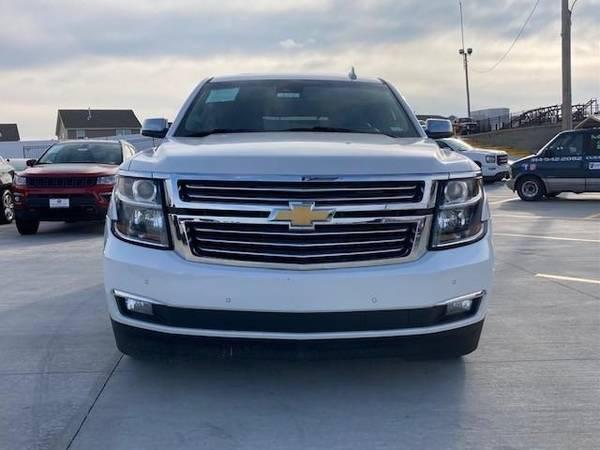Front_Bumper: (103, 233, 495, 365)
Front_Windshield: (169, 75, 423, 140)
Grille: (161, 175, 445, 266)
Hood: (121, 132, 478, 183)
Left_Headlight: (428, 168, 485, 252)
Left_Mirror: (425, 117, 454, 141)
Right_Headlight: (106, 172, 172, 249)
Right_Mirror: (140, 118, 168, 139)
